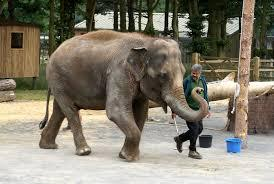elephant: (40, 30, 207, 160)
